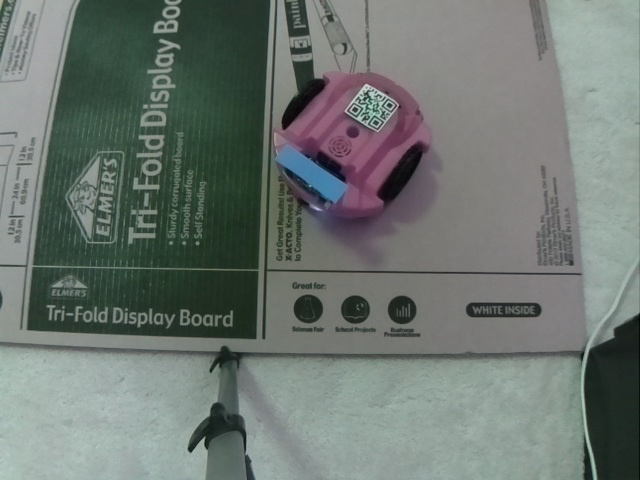board: (276, 140, 343, 206)
chassis: (269, 66, 433, 221)
